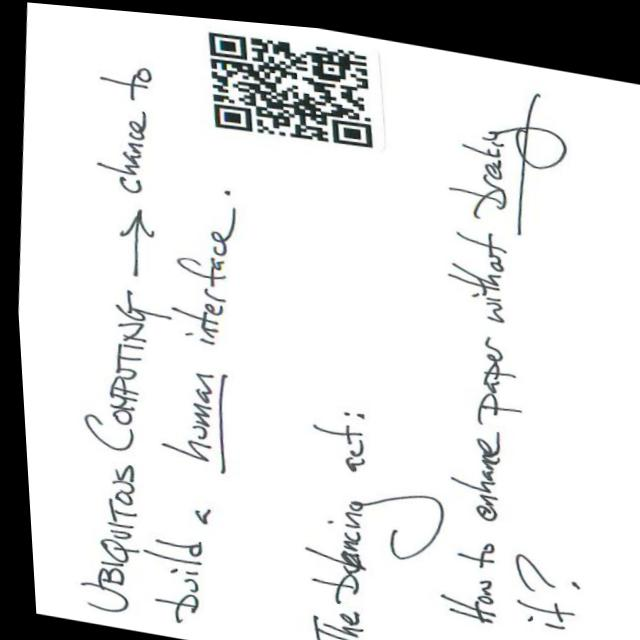qrcode: (202, 21, 380, 147)
